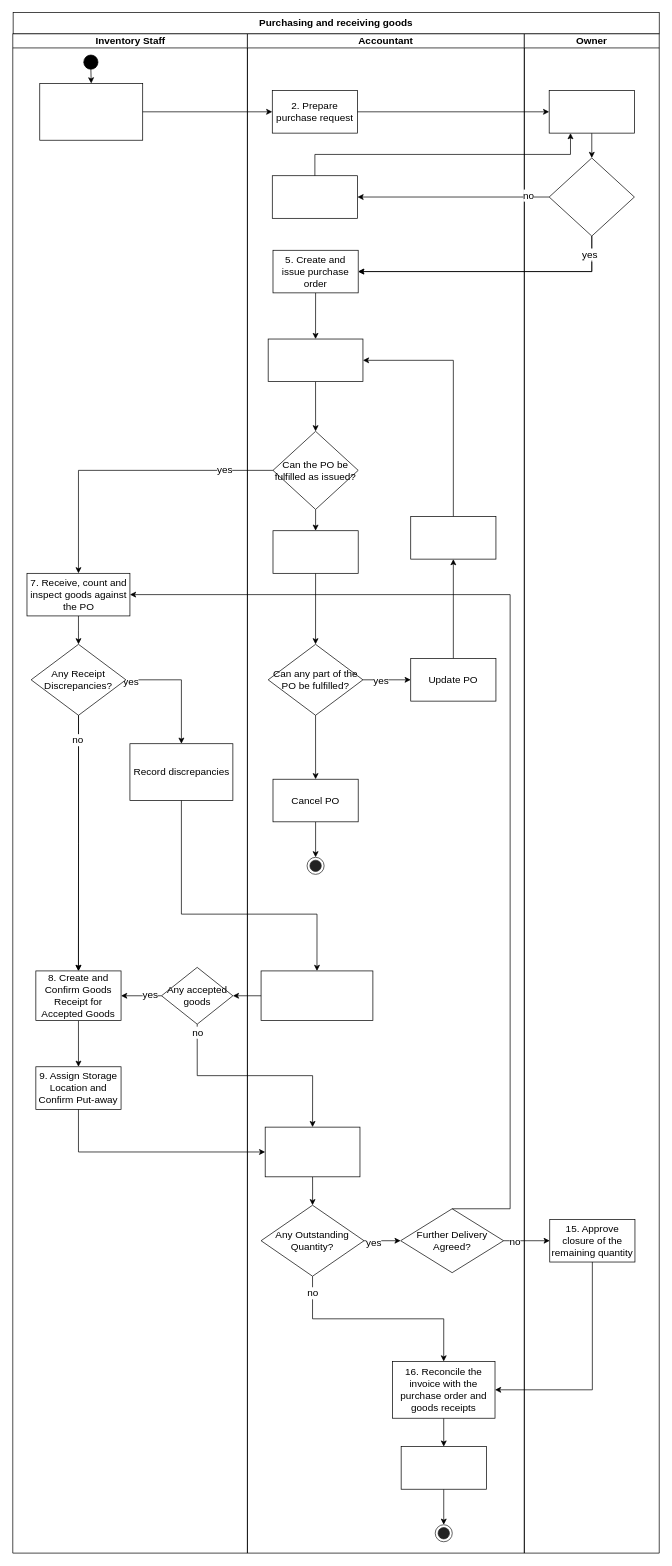
This 672x1566 diagram has some shape labels left out. The shapes that lost their labels are listed below. From the top down, each one's centre as x and y in pixels, then its label:
At pixel 91 111: "1. Review available stock, incoming goods, and replenishment needs".
At pixel 591 111: "3. Review purchase request".
At pixel 314 196: "4. Revise purchase request".
At pixel 591 196: "Purchase request approved?".
At pixel 315 360: "6.Record PO fulfilment response".
At pixel 315 551: "7. Review affected PO lines and proposed changes".
At pixel 453 537: "8. Issue revised PO".
At pixel 316 995: "Review discrepancies and record handling results".
At pixel 312 1151: "14. Reconcile the purchase order with confirmed goods receipts".
At pixel 443 1467: "17. Close the purchase order".
